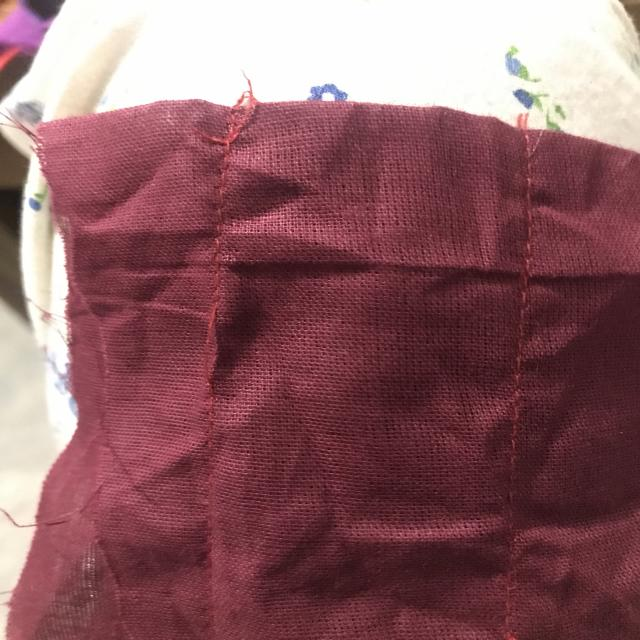good: (199, 186, 235, 263)
skip: (182, 296, 260, 399)
